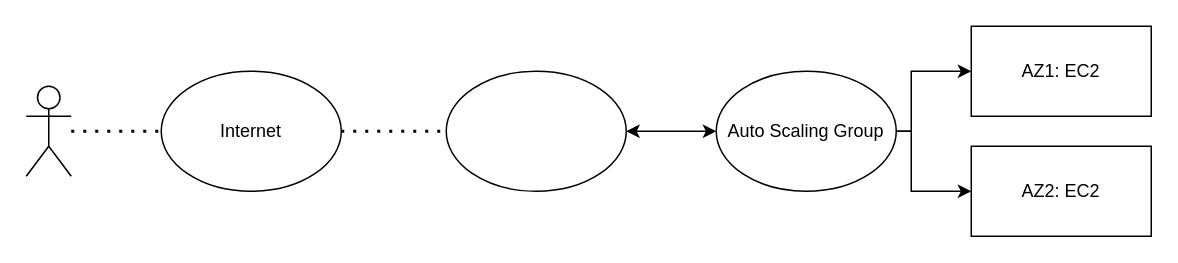
This 1178x263 diagram has some shape labels left out. Here are the shapes that lost their labels. From the top down, the box of each, then its label:
(25, 85, 71, 176): User
(445, 70, 626, 191): Targer Group
